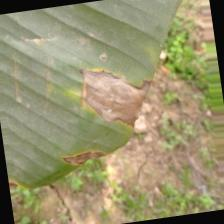cordana: (0, 0, 209, 193)
